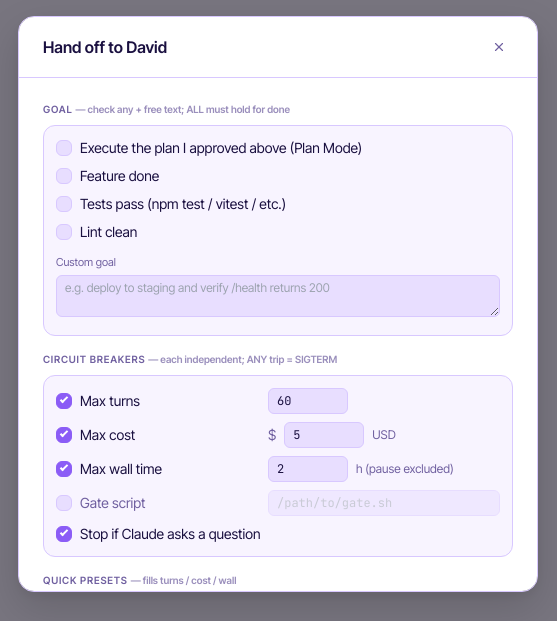
Test: HandoffModal (v2.2.0) › checking a preset that needs "specify" without filling it does NOT enable Go
// "Feature done" needs specify
Step 1. Click the text "Feature done" → (120, 176), box [80,166,159,186]
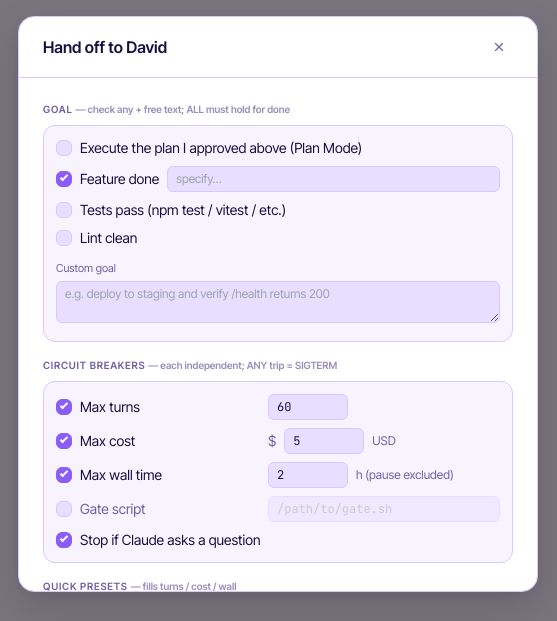
// Now fill specify → enabled
Step 2. Type "user auth" into the field with placeholder "specify…" → (334, 179), box [167,166,500,192]
(page scrolled)
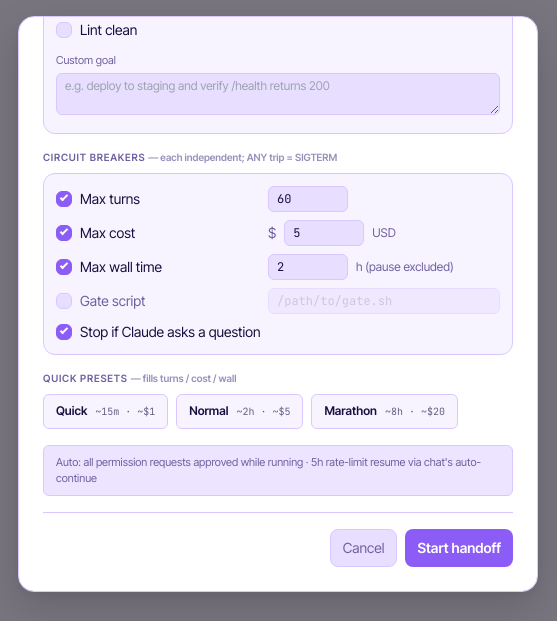
Now the button "Start handoff" is enabled, box [406,528,513,566]
